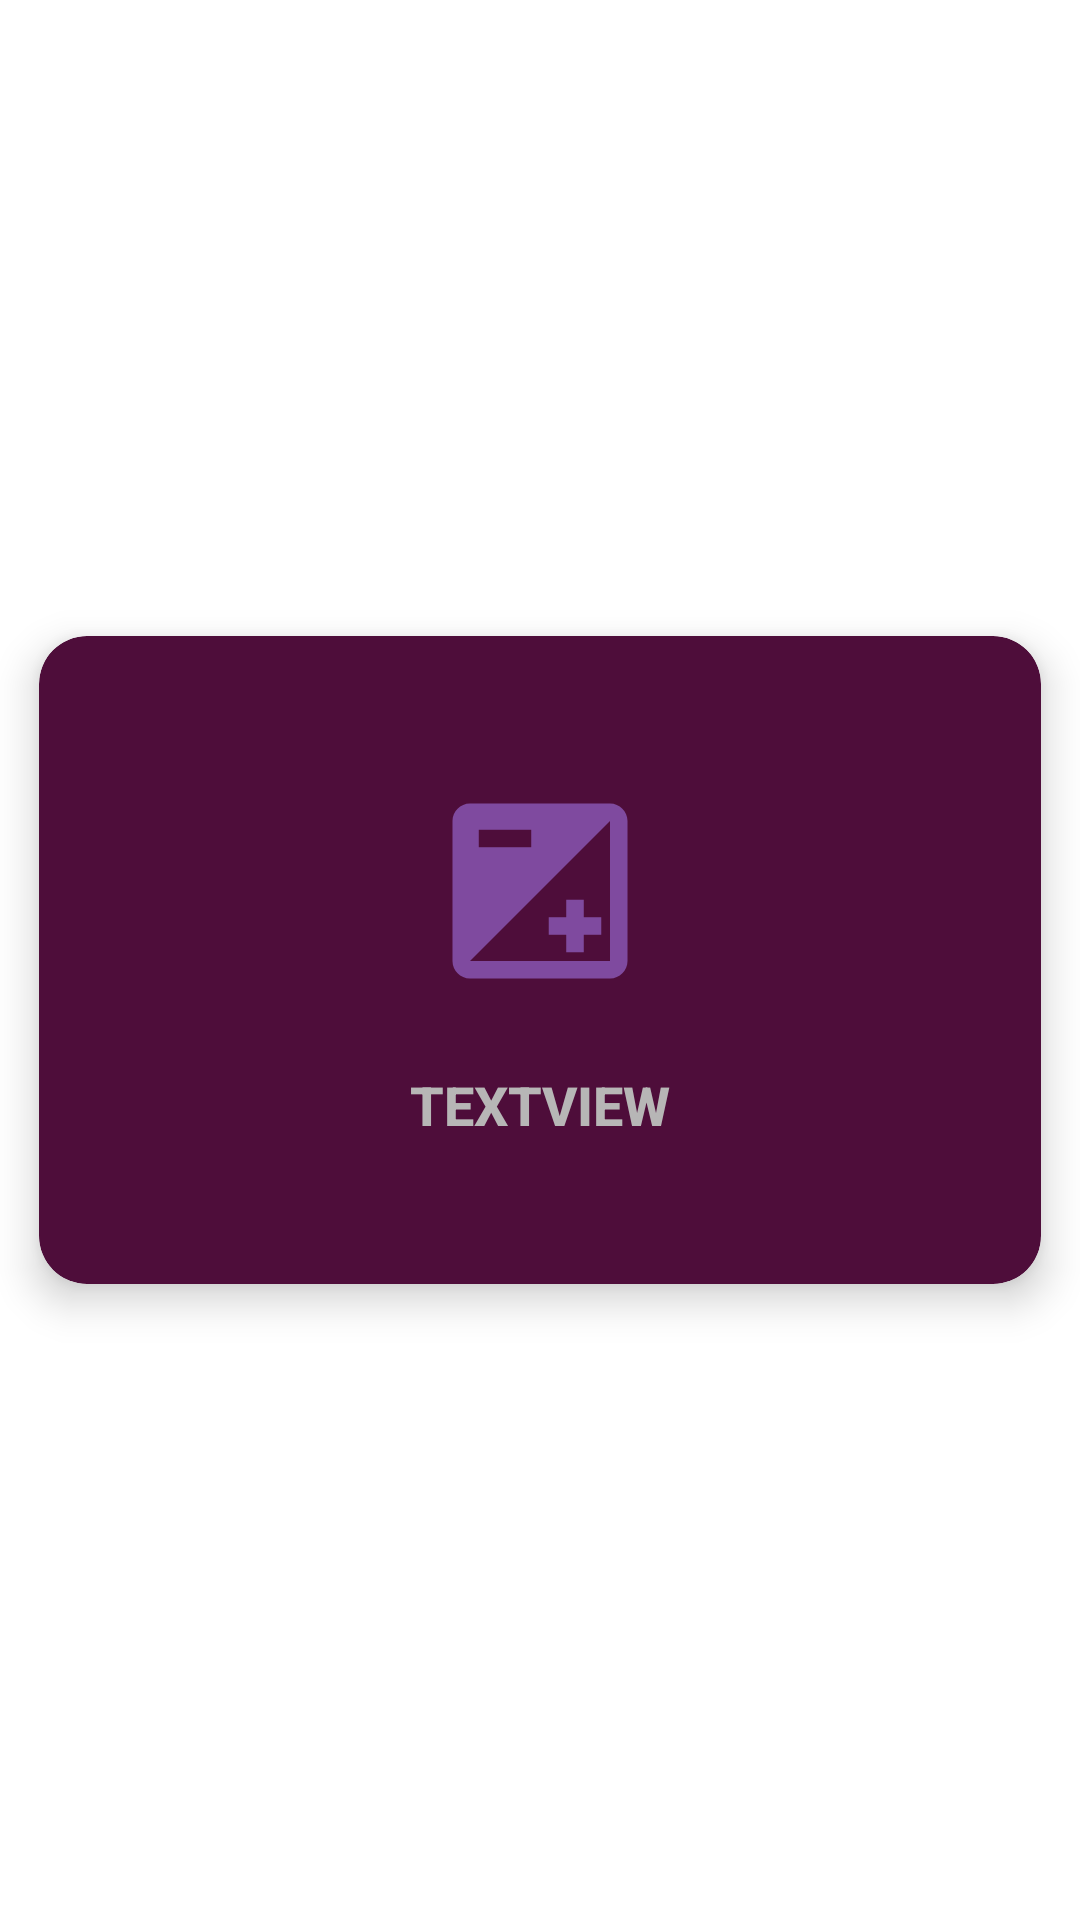

Icon bounding boxes for this 1080*1920 phone screenshot, format [x1=x1, y1=y1, x2=x2, y2=y2]:
calculator two: [x1=452, y1=803, x2=628, y2=979]
